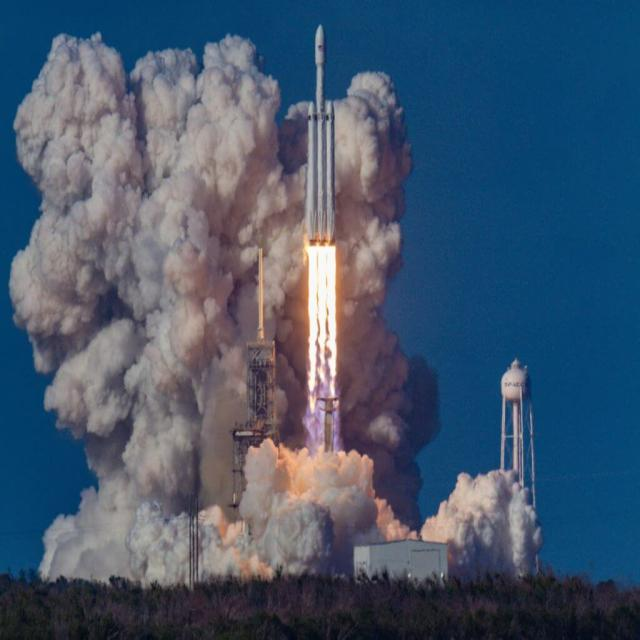large_debris: (306, 242, 342, 443)
rocket: (304, 22, 342, 247)
